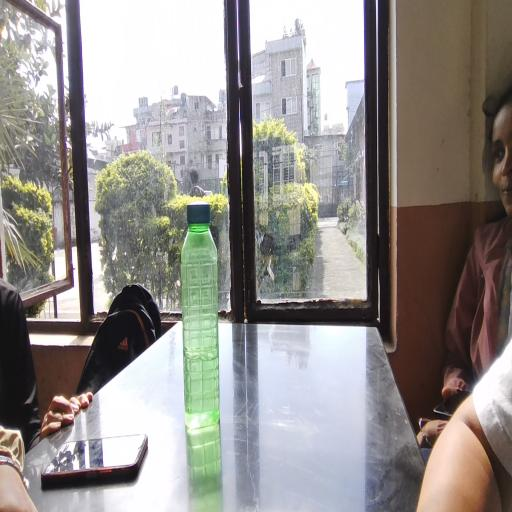Bottle: (175, 206, 229, 423)
